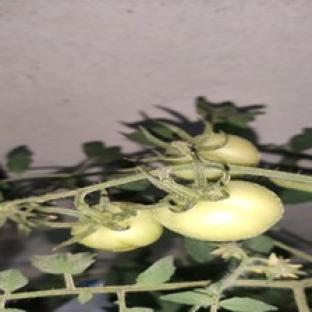Tomato: (155, 180, 284, 240), (80, 211, 162, 252), (197, 134, 259, 165), (272, 179, 311, 192), (173, 169, 194, 179)
